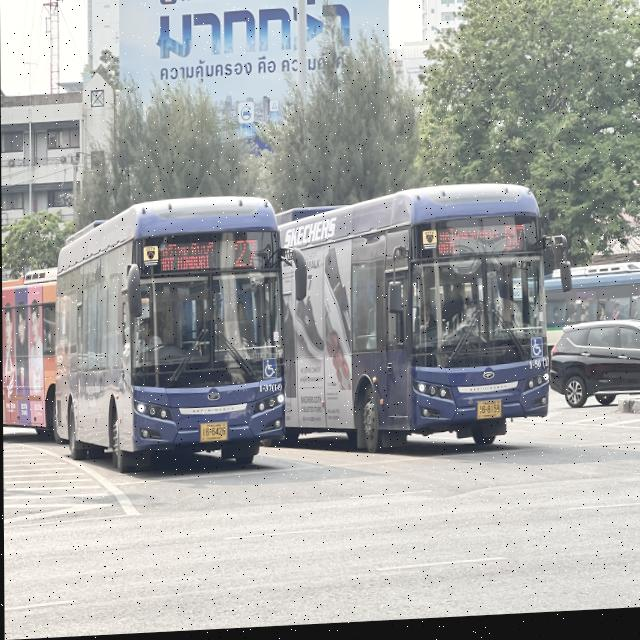BMTA-bus: (2, 269, 58, 438)
Bus Line Number: (230, 239, 261, 273), (500, 228, 527, 258)
Bus Side Number: (254, 385, 282, 397), (528, 364, 550, 376)
Destination Sign: (158, 239, 222, 277), (437, 227, 501, 260)
TSB-Bus: (276, 189, 550, 457), (52, 199, 292, 474)
